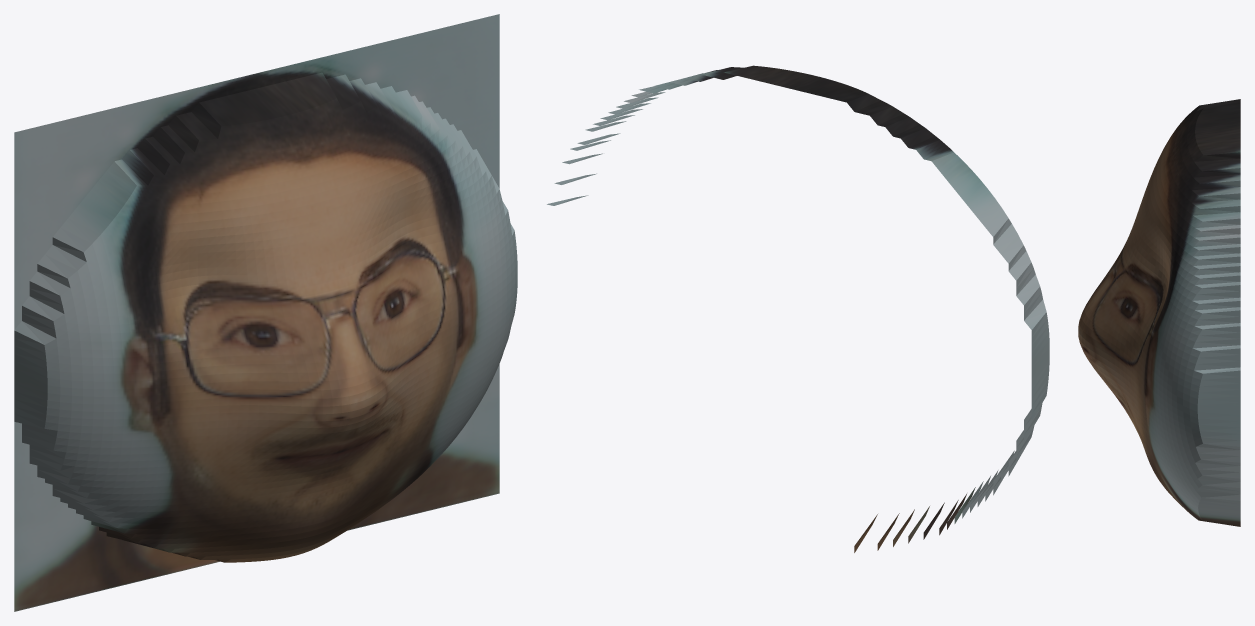
The model's file is sketch_result.glb.
3 views of the same model, side by side, from view 1: azimuth 30°, elevation 25°; view 2: azimuth 150°, elevation 25°; view 3: azimuth 270°, elevation 25° (orthographic). The views are drawn at different scales.
Parts seen in each view (by area): view 1: geometry_0; view 2: geometry_0; view 3: geometry_0.
Part boxes in pixels (box(x1,y1,x2,y2)): geometry_0: box(14, 14, 517, 611); geometry_0: box(547, 65, 1049, 552); geometry_0: box(1078, 99, 1240, 526).
Size of the model in its own units: 1.8 by 1.7 by 0.627.
Materials: 1 (1 with a texture image).
